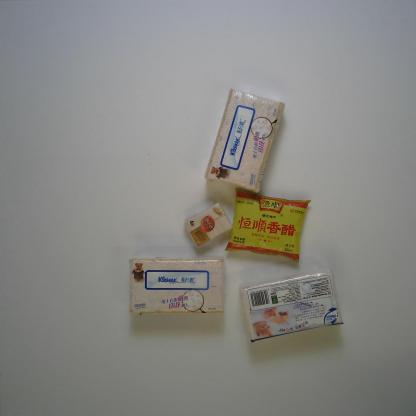Seasoner: (223, 186, 310, 264)
Tissue: (203, 88, 285, 194), (239, 268, 344, 344), (128, 258, 226, 314), (183, 202, 233, 247)
